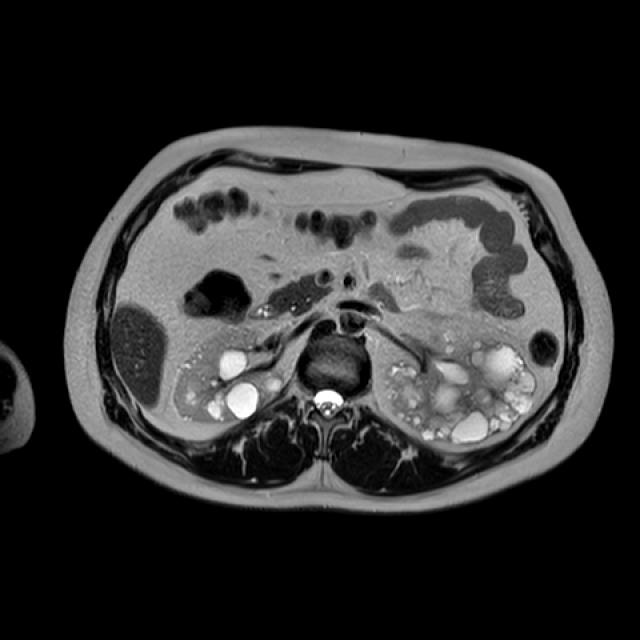sag: (174, 325, 287, 422)
sol: (387, 325, 535, 439)
